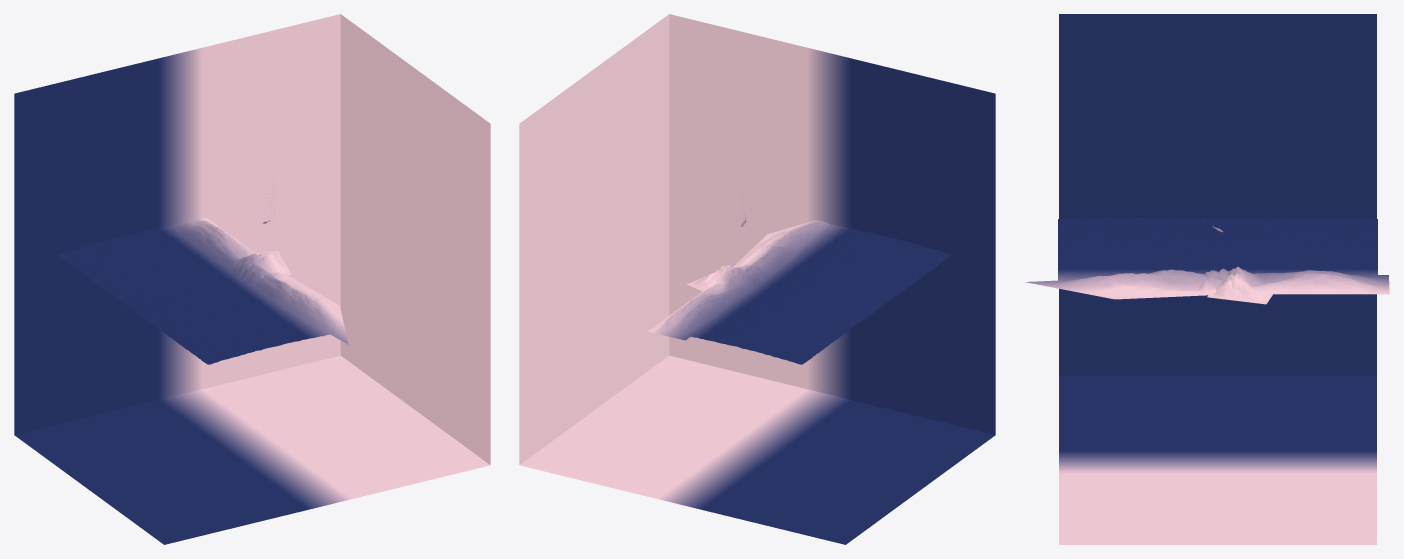
3 views of the same model, side by side, from view 1: azimuth 30°, elevation 25°; view 2: azimuth 150°, elevation 25°; view 3: azimuth 270°, elevation 25° (orthographic). The views are drawn at different scales.
Parts seen in each view (by area): view 1: Land_0; view 2: Land_0; view 3: Land_0.
Part boxes in pixels (x1=…): Land_0: x1=14, y1=14, x2=490, y2=544; Land_0: x1=519, y1=14, x2=995, y2=544; Land_0: x1=1025, y1=14, x2=1389, y2=544.
Size of the model in its own units: 163 by 163 by 149.
Materials: 1 (1 with a texture image).
